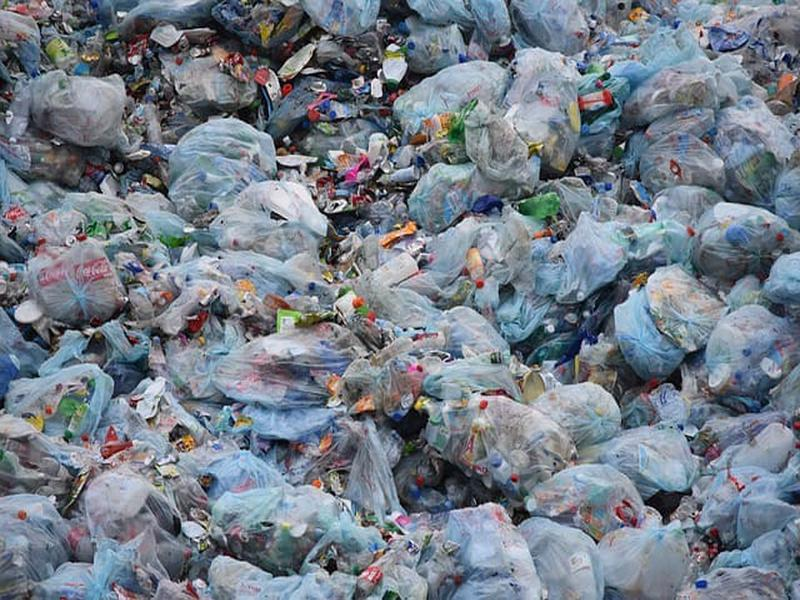plastic: (420, 386, 587, 502), (462, 44, 592, 186), (211, 322, 372, 414), (79, 459, 199, 581), (162, 110, 287, 226), (207, 474, 352, 572), (431, 504, 556, 600), (700, 302, 799, 417), (26, 60, 142, 156), (207, 178, 335, 262), (678, 195, 800, 281), (535, 209, 632, 313), (519, 461, 649, 537), (396, 59, 516, 140), (26, 235, 131, 326), (1, 489, 83, 600), (5, 360, 117, 441), (598, 519, 700, 598), (620, 53, 723, 131), (611, 288, 688, 385)
